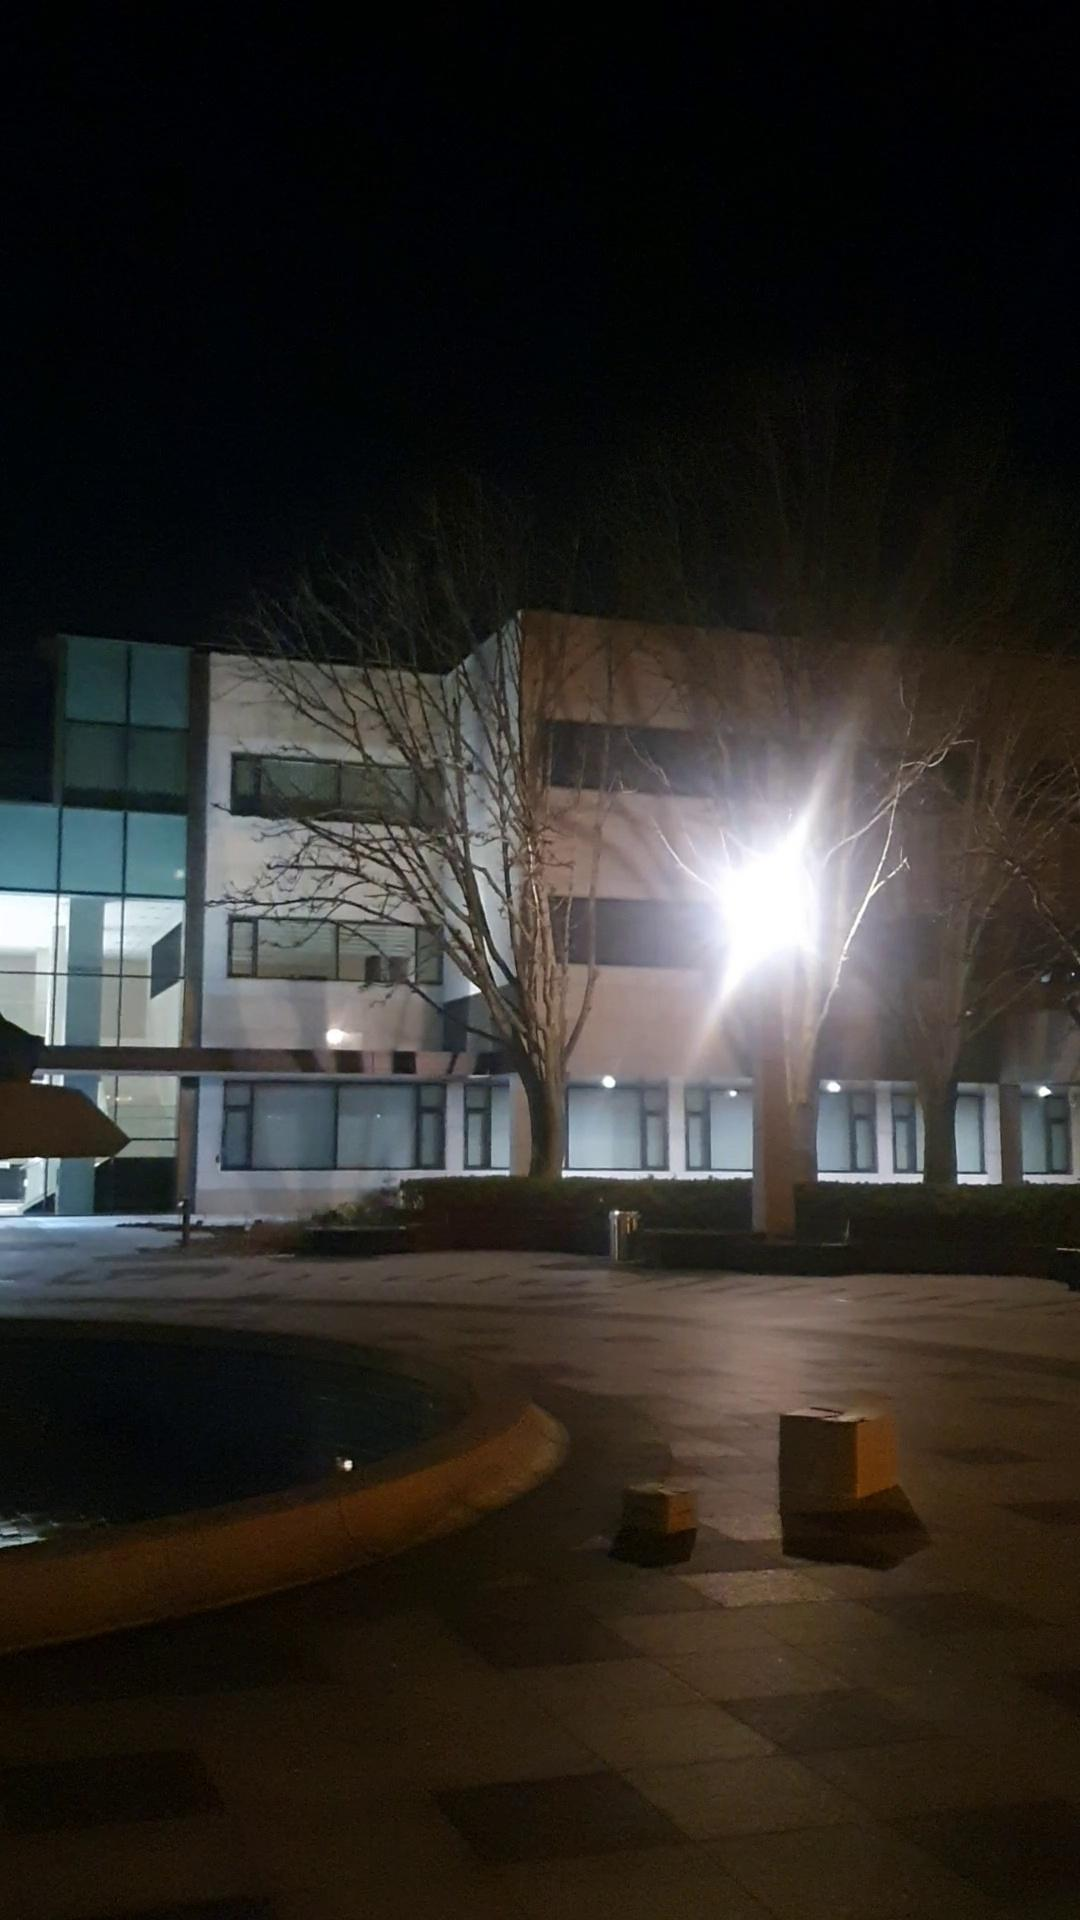Box: (742, 1403, 913, 1528), (632, 1462, 702, 1534)
